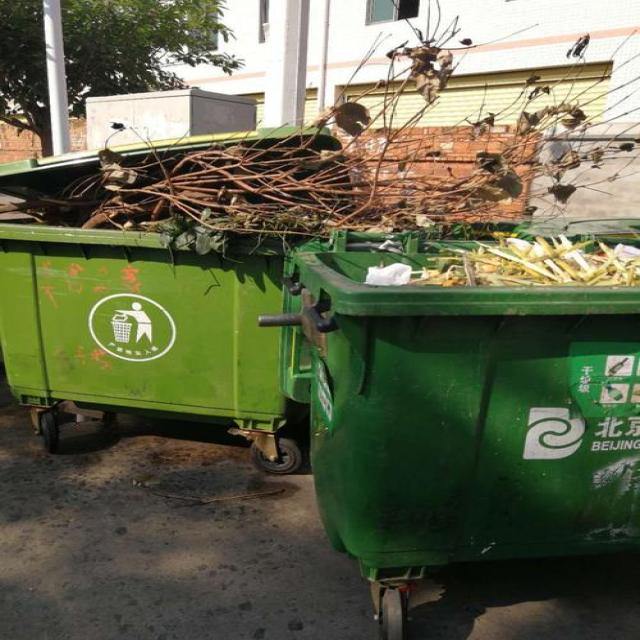overflow: (277, 218, 638, 567), (1, 127, 369, 430)
